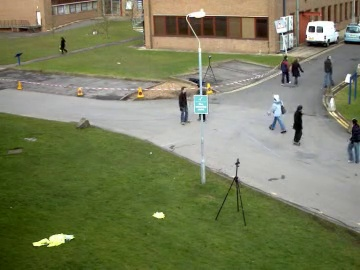person: (177, 85, 193, 124), (177, 83, 192, 123), (177, 85, 192, 124)
